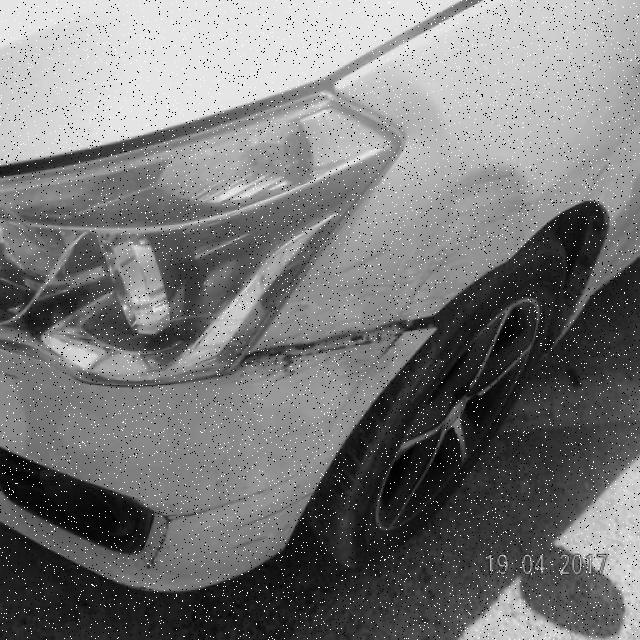car damage: (240, 248, 466, 380), (142, 472, 301, 572), (448, 145, 540, 277), (180, 519, 297, 561), (232, 490, 314, 531)
